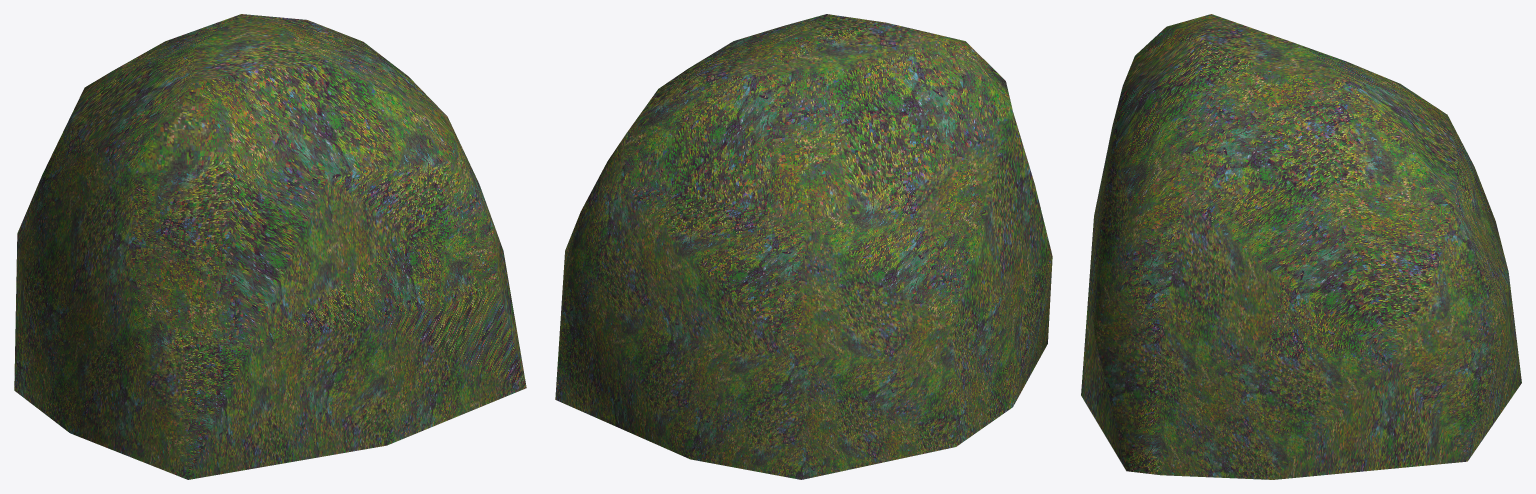
Rendered from rock_mossy_big_l1.fbx.
3 renders of one model, left to right at view 1: azimuth 30°, elevation 25°; view 2: azimuth 150°, elevation 25°; view 3: azimuth 270°, elevation 25°, orthographic. The views are drawn at different scales.
Parts seen in each view (by area): view 1: mesh_node; view 2: mesh_node; view 3: mesh_node.
Part boxes in pixels (x1=…): mesh_node: x1=14, y1=14, x2=526, y2=479; mesh_node: x1=555, y1=14, x2=1052, y2=479; mesh_node: x1=1081, y1=14, x2=1521, y2=479.
Bounding box in the file's own units: 6.03 × 4.87 × 5.96.
